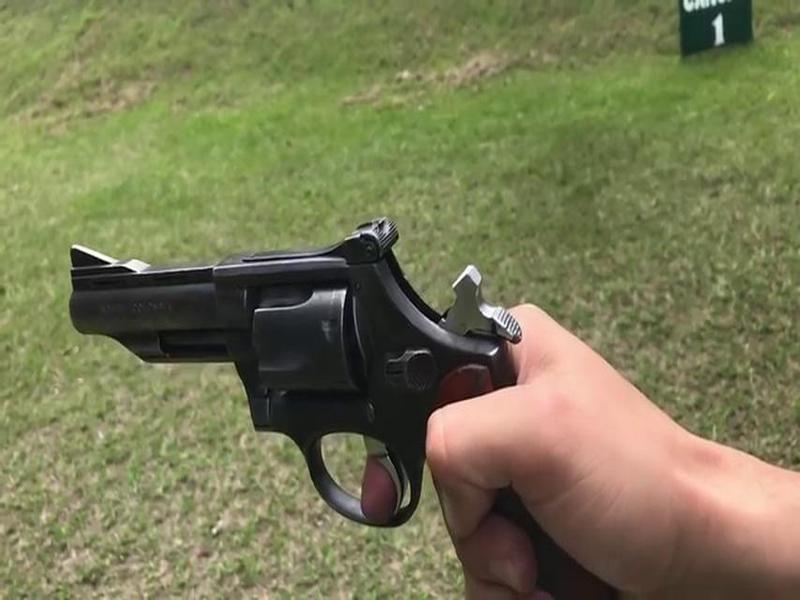Revolver: (69, 197, 581, 595)
